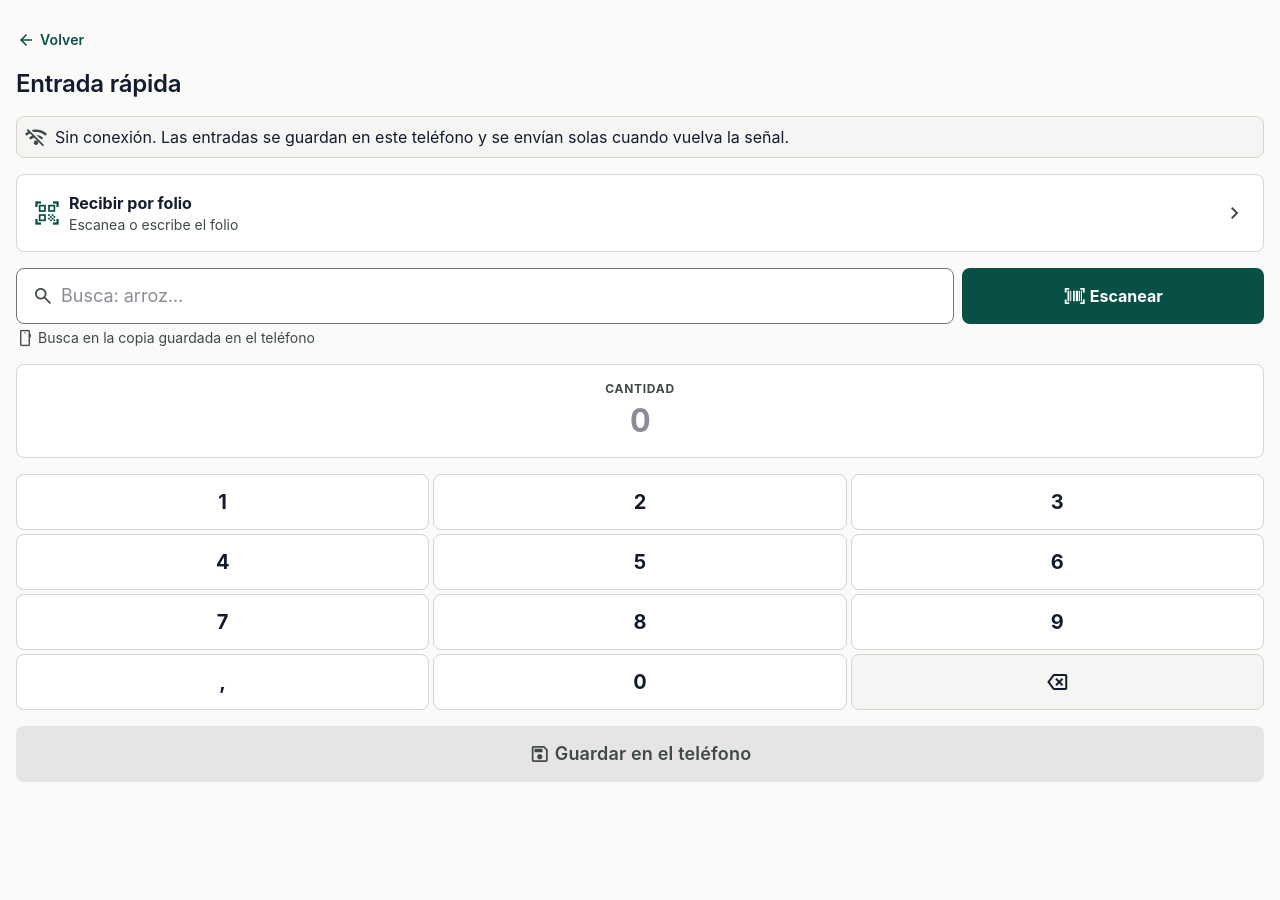
Test: C4 sin conexión › muestra el saldo estimado: el último conocido más lo que espera en la cola
In the search field named "Categoría": (485,296) x1=16 y1=268 x2=954 y2=324, type "pañal"
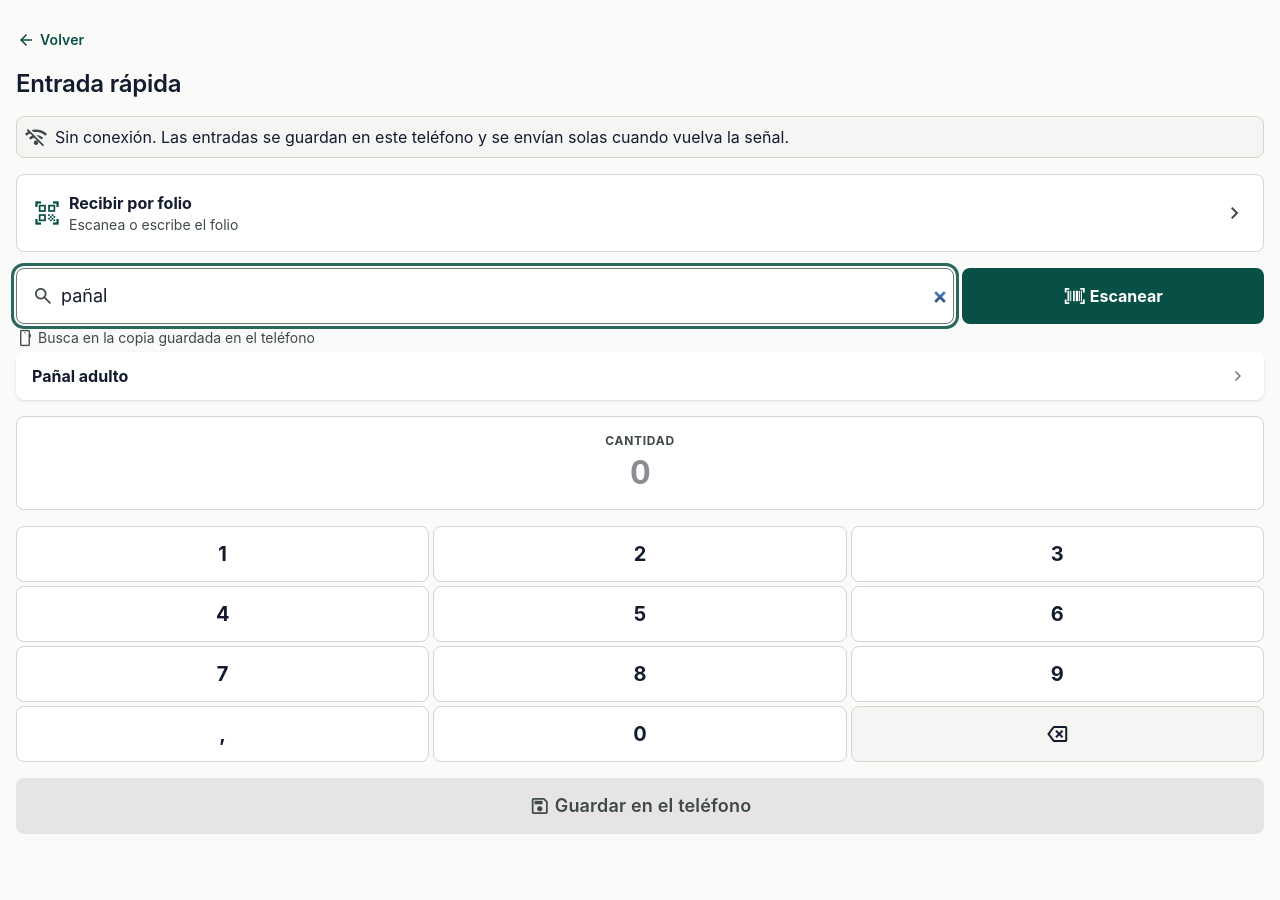
Click the button "Pañal adulto": (80,376) x1=16 y1=352 x2=1264 y2=400
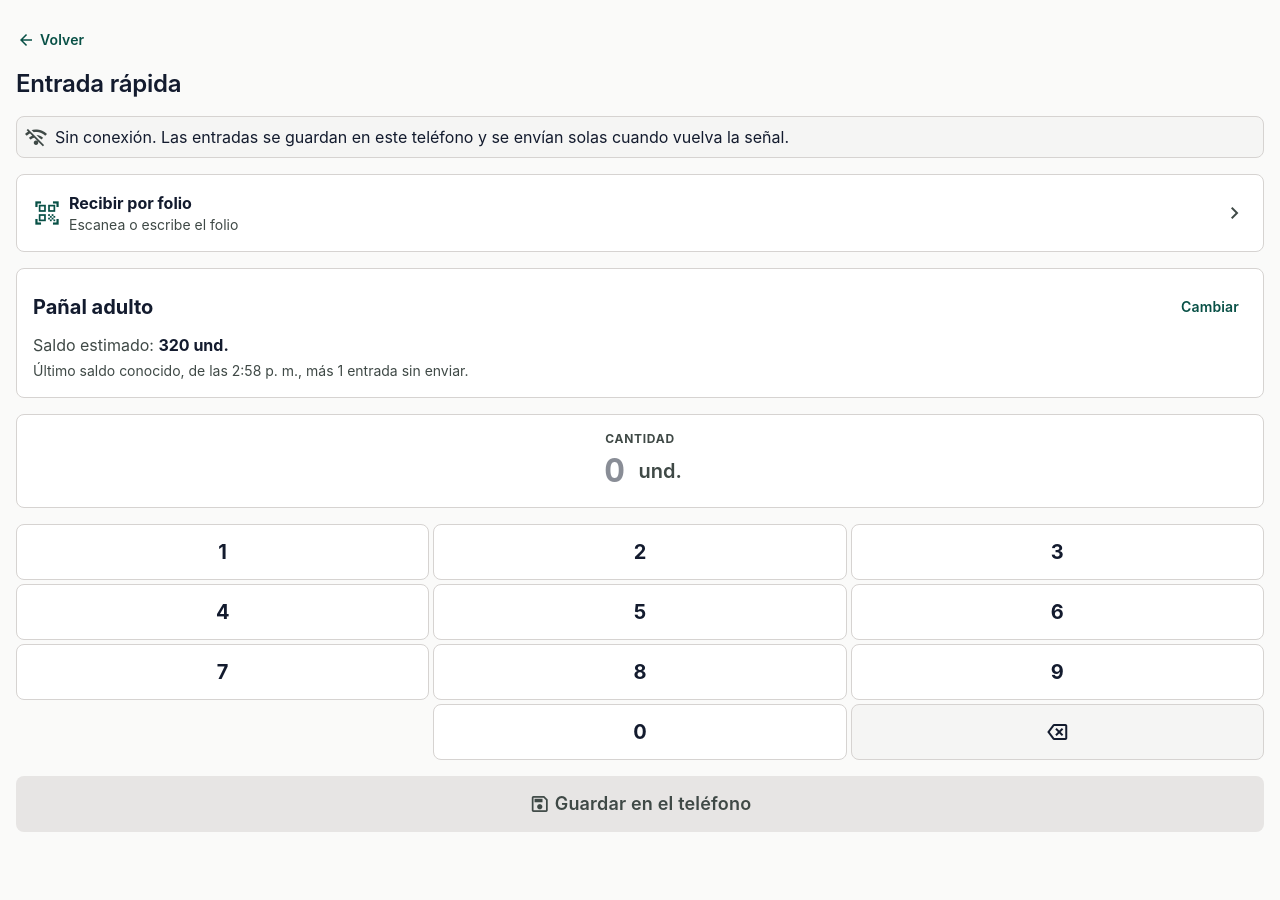
Result: the element named "Categoría elegida" shows "Saldo estimado: 320 und." at x1=16 y1=268 x2=1264 y2=398
